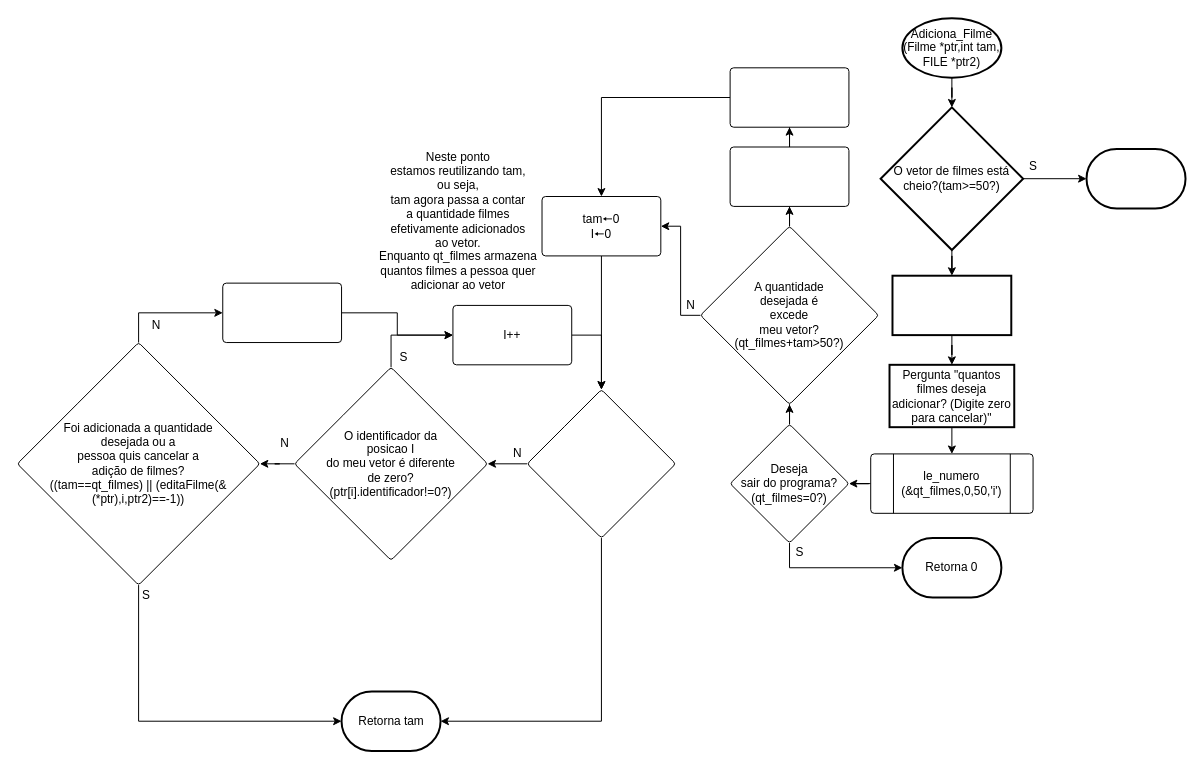
Some shapes in this 1204 by 768 pixel diagram are drawn without their labels. The centre of each missing label's shape, as x and y in pixels:
Declara qt_filmes, e iterador I: point 951,305
Exibe "ALERTA: O maximo suportado para adicao de filmes eh: qt_filmes": point 789,97
qt_filmes 🠔50-tam: point 789,176
Retorna -1: point 1135,178
tam++ (Foi adicionado um filme): point 282,312
Terminamos de percorrer o vetor de filmes? (I<50?): point 601,463
